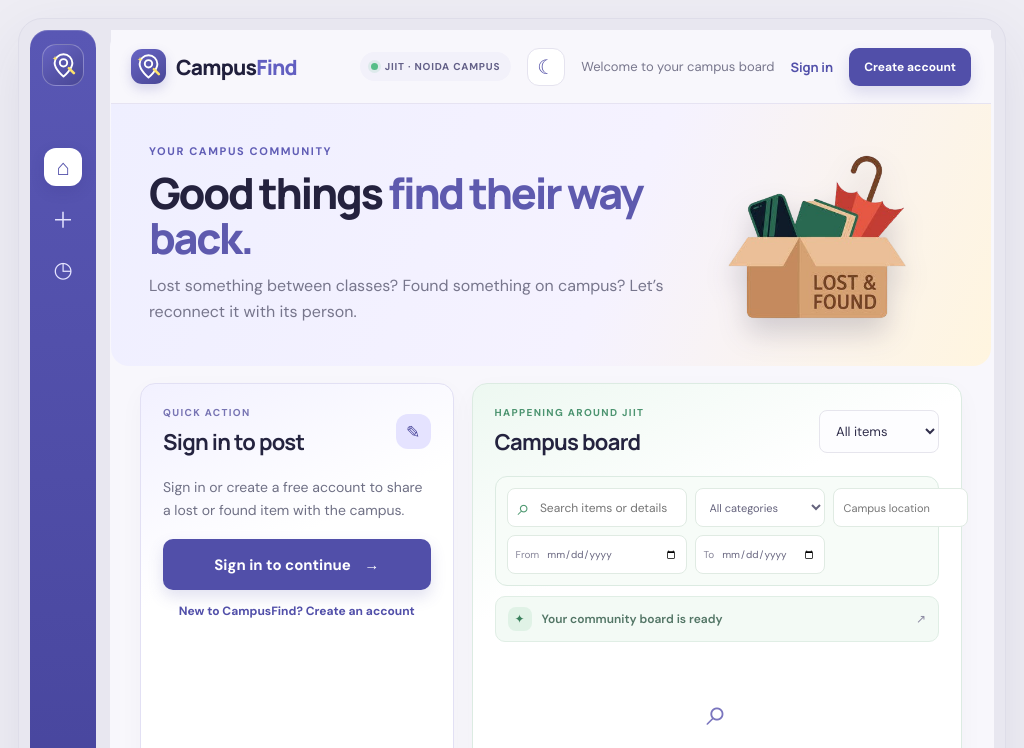
CampusFind board › toggles dark mode and remembers the selected theme
Click the button named "Switch to dark mode": point(546, 66) [527,48,565,86]
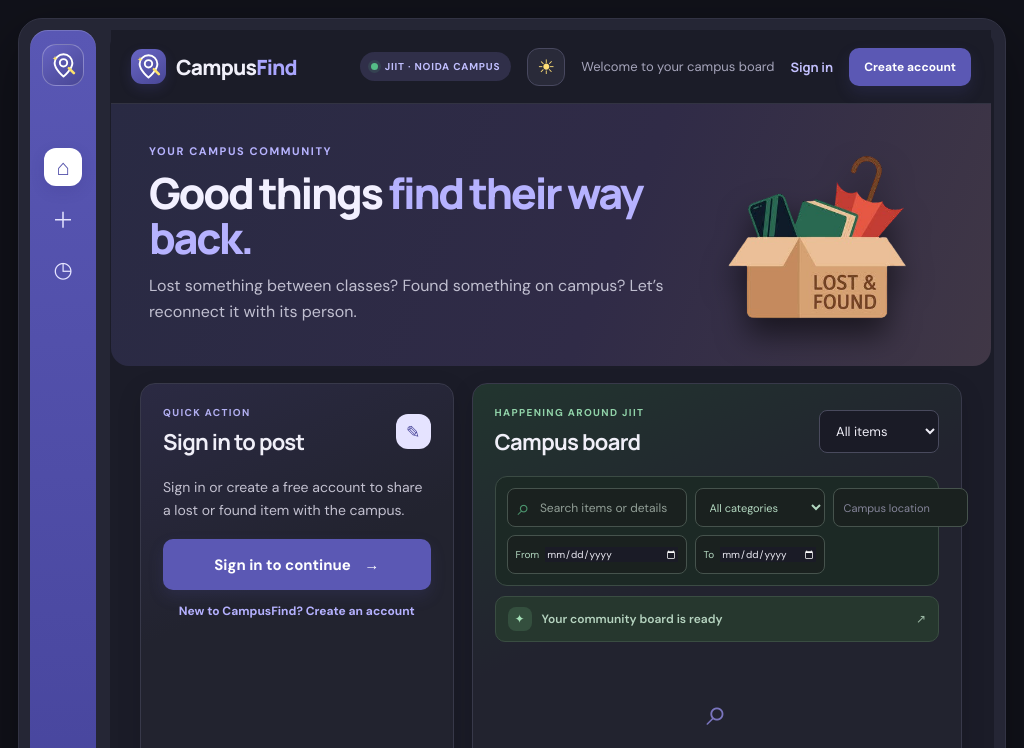
Now the button named "Switch to light mode" is shown, box [527,48,565,86]
